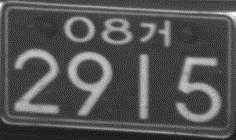0: (63, 14, 96, 43)
1: (125, 53, 164, 119)
2: (13, 47, 61, 114)
5: (174, 55, 222, 122)
8: (100, 17, 134, 45)
9: (67, 50, 113, 116)
거: (138, 19, 171, 48)
